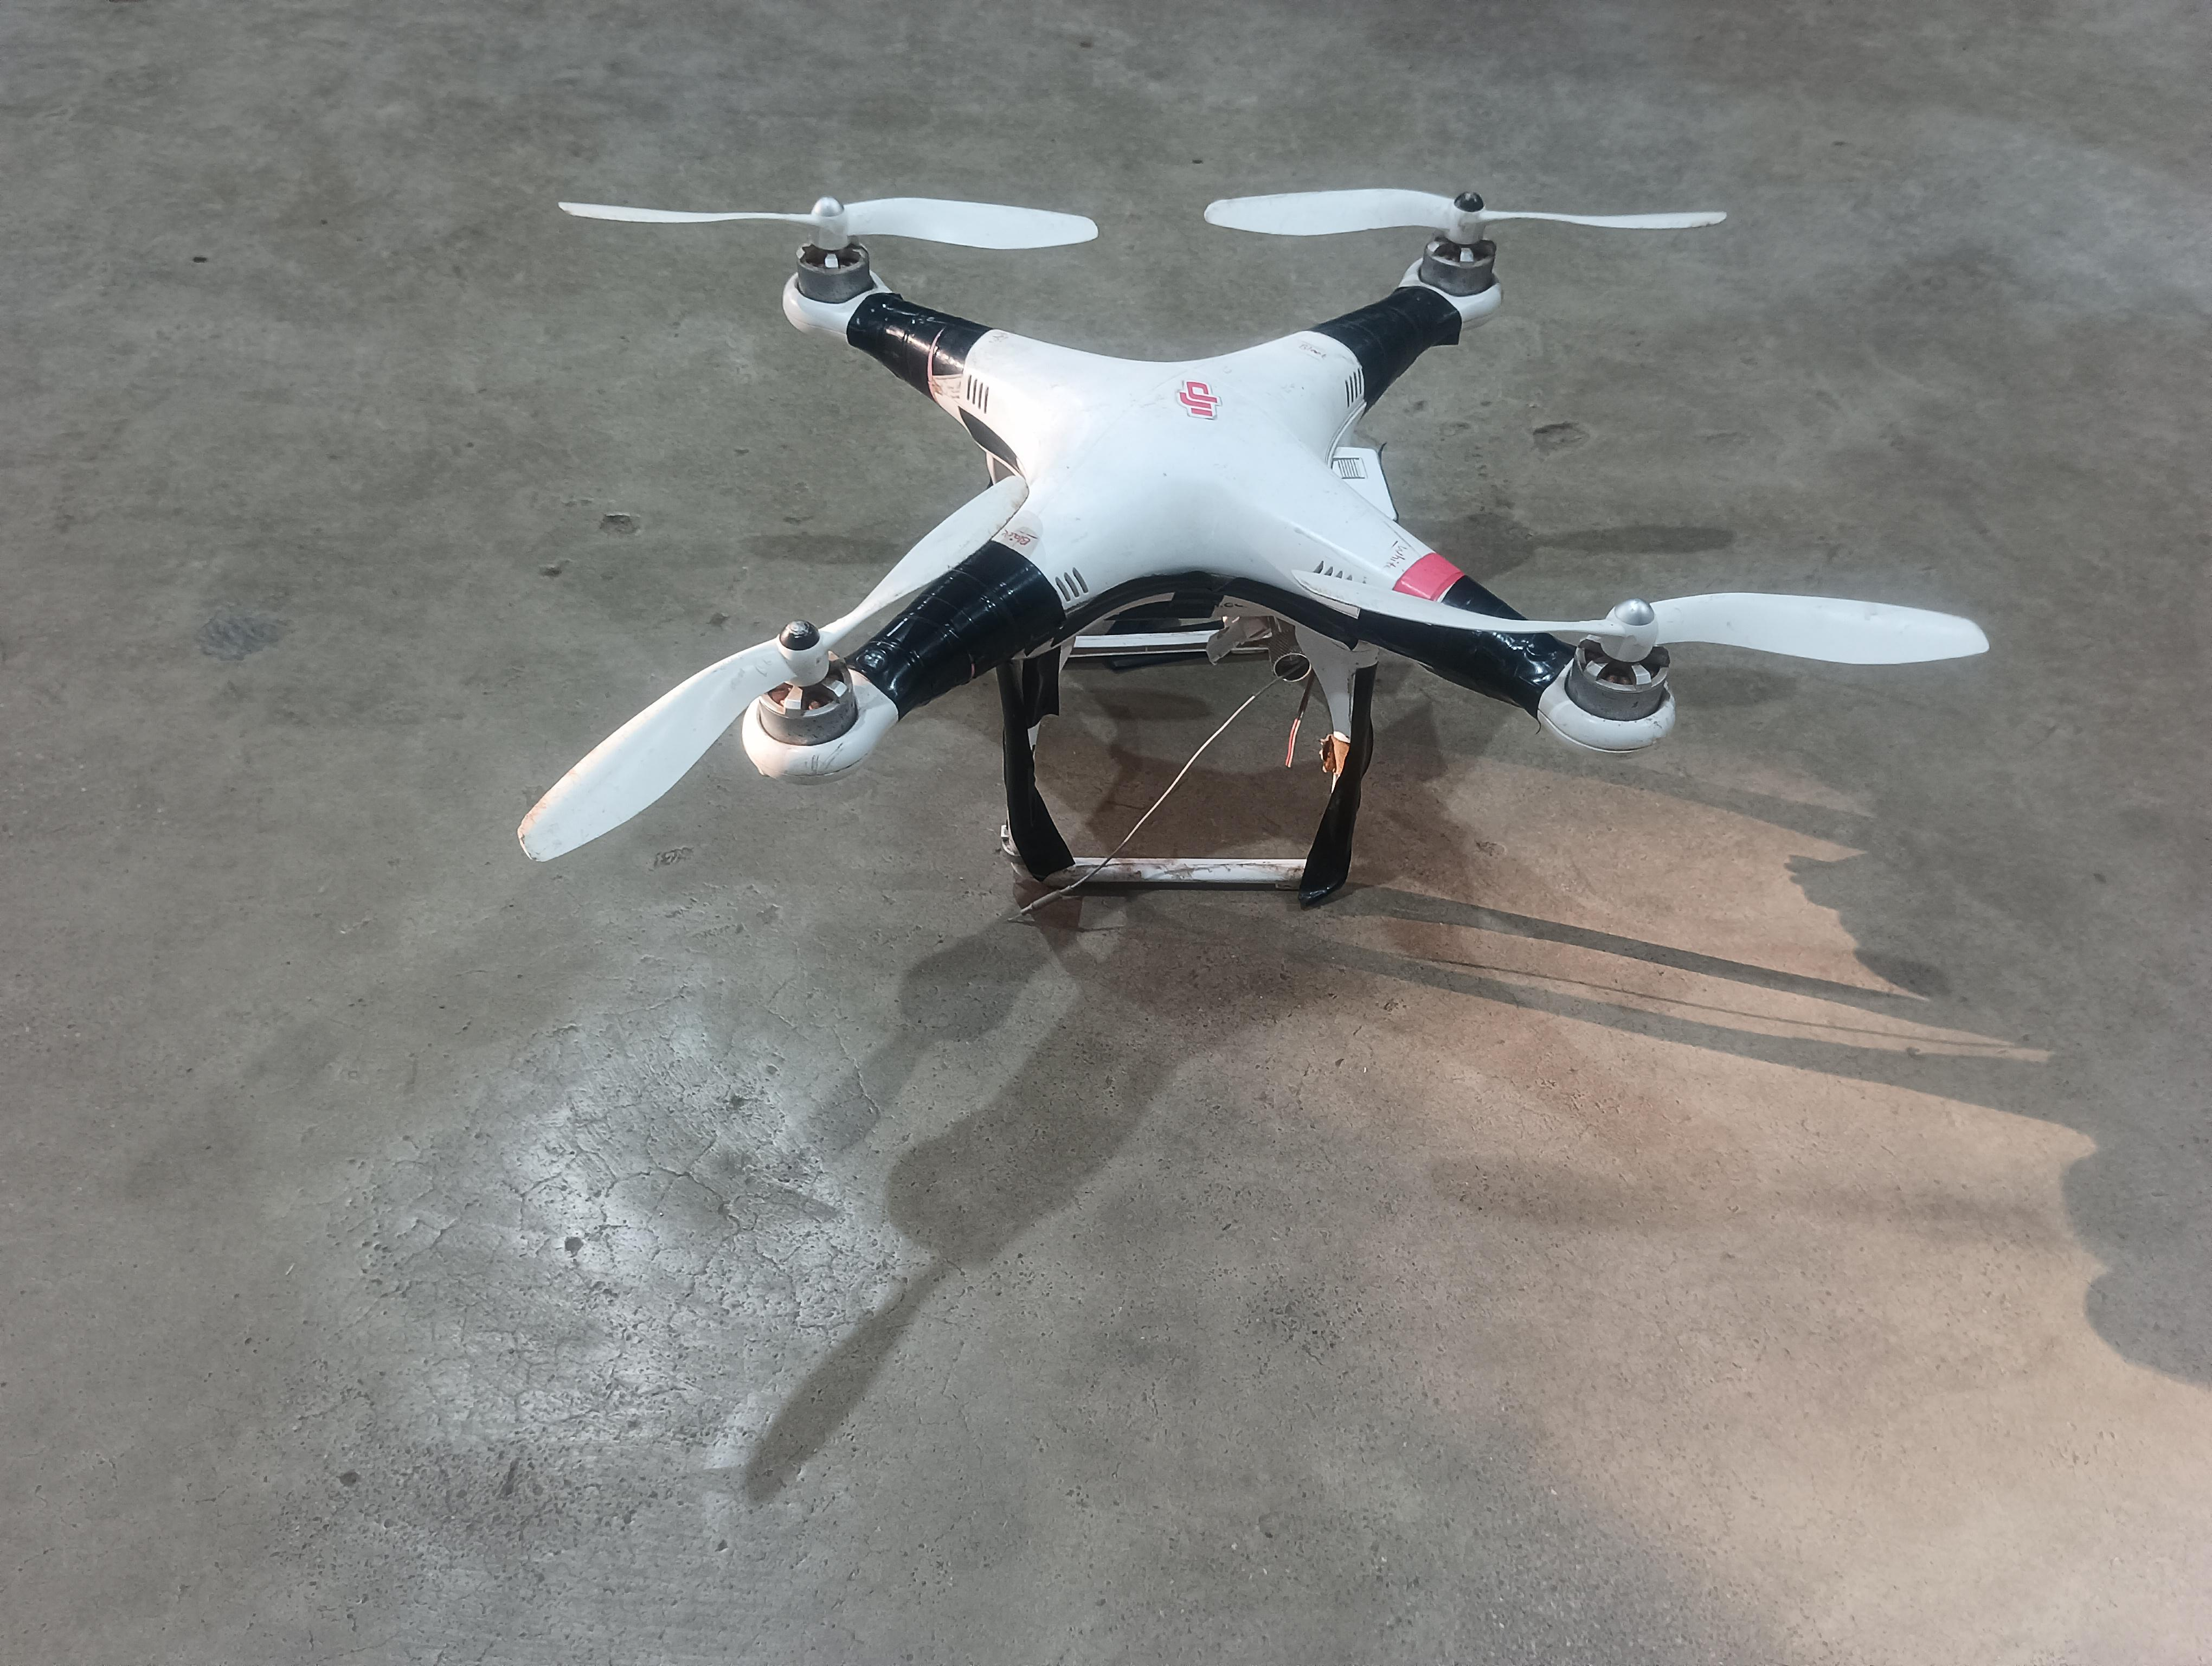drone: (407, 116, 2049, 1034)
